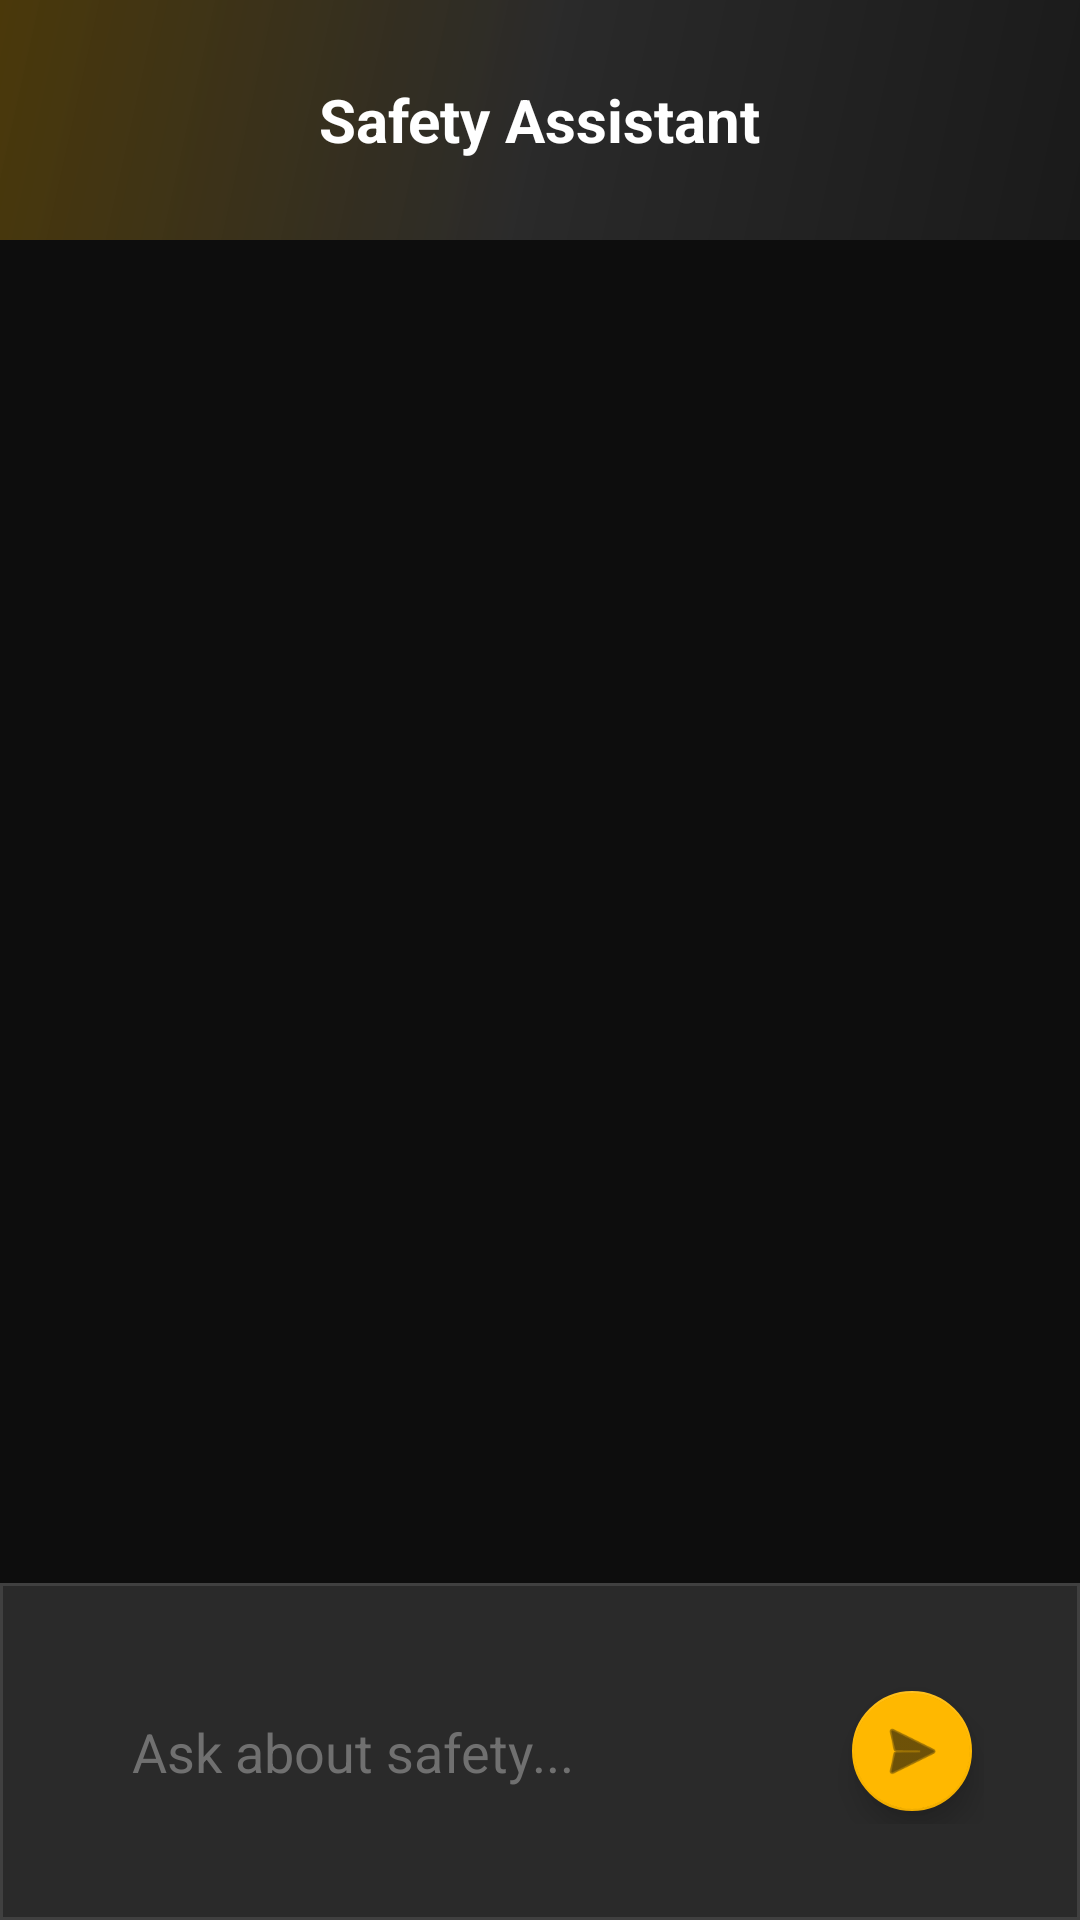

Icons on this 1080*1920 Android screen, each with the point to tap as (x,y):
send: (912,1751)
